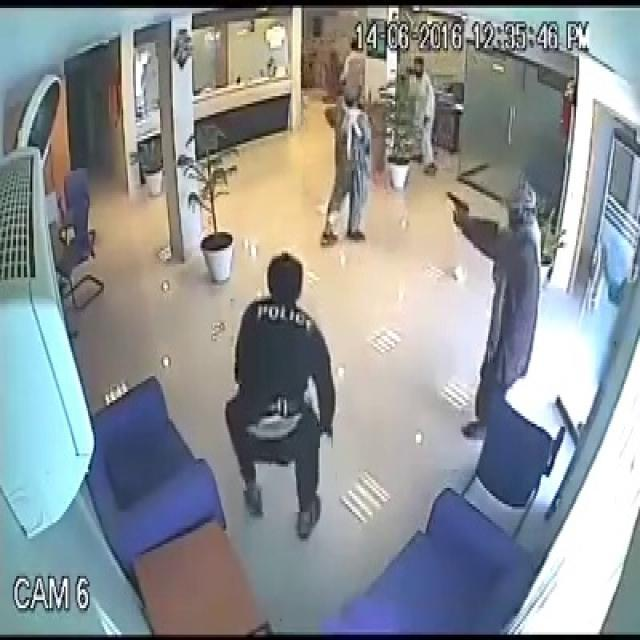weapon: (443, 184, 466, 219)
